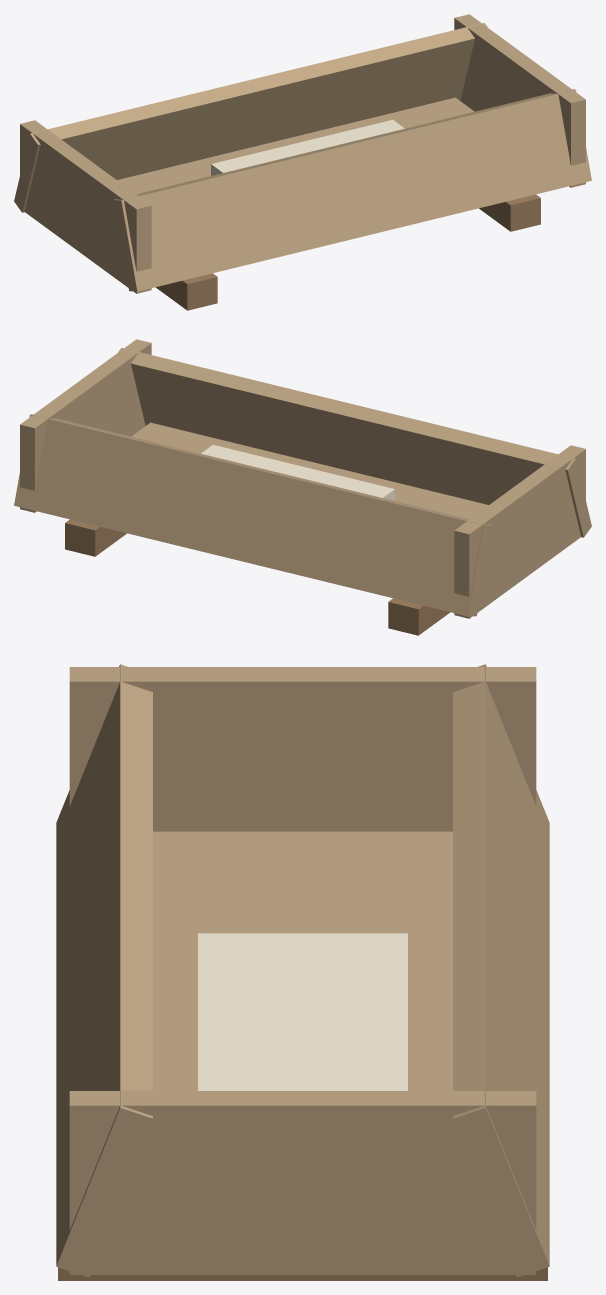
Rendered from prop-kneading-trough.fbx.
The picture shows the model from 3 angles, top to bottom: view 1: azimuth 30°, elevation 25°; view 2: azimuth 150°, elevation 25°; view 3: azimuth 270°, elevation 25°; orthographic projection. The views are drawn at different scales.
Visible parts, largest first — view 1: prop-kneading-trough; view 2: prop-kneading-trough; view 3: prop-kneading-trough.
Part boxes in pixels (left/top/right/bottom): prop-kneading-trough: left=14, top=14, right=591, bottom=310; prop-kneading-trough: left=14, top=339, right=591, bottom=635; prop-kneading-trough: left=56, top=664, right=549, bottom=1280.
Bounding box in the file's own units: 90 × 21.03 × 42.3.
